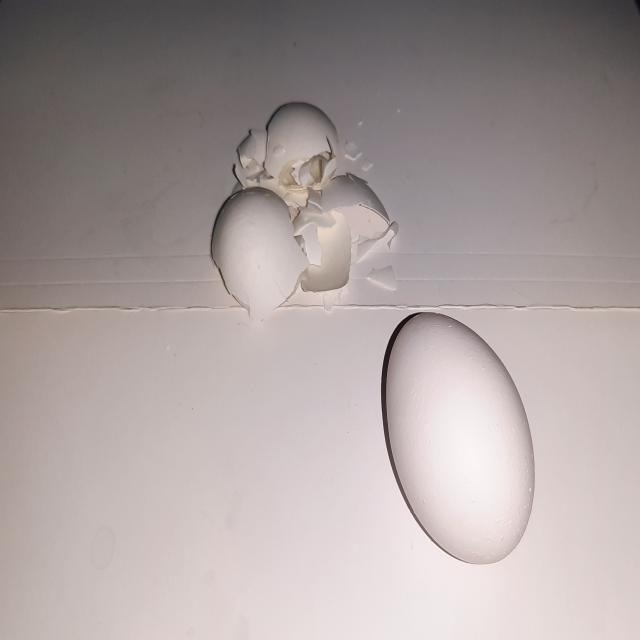egg shell: (384, 301, 538, 567), (208, 189, 308, 321), (297, 186, 383, 296), (257, 89, 333, 176), (351, 226, 410, 299)
